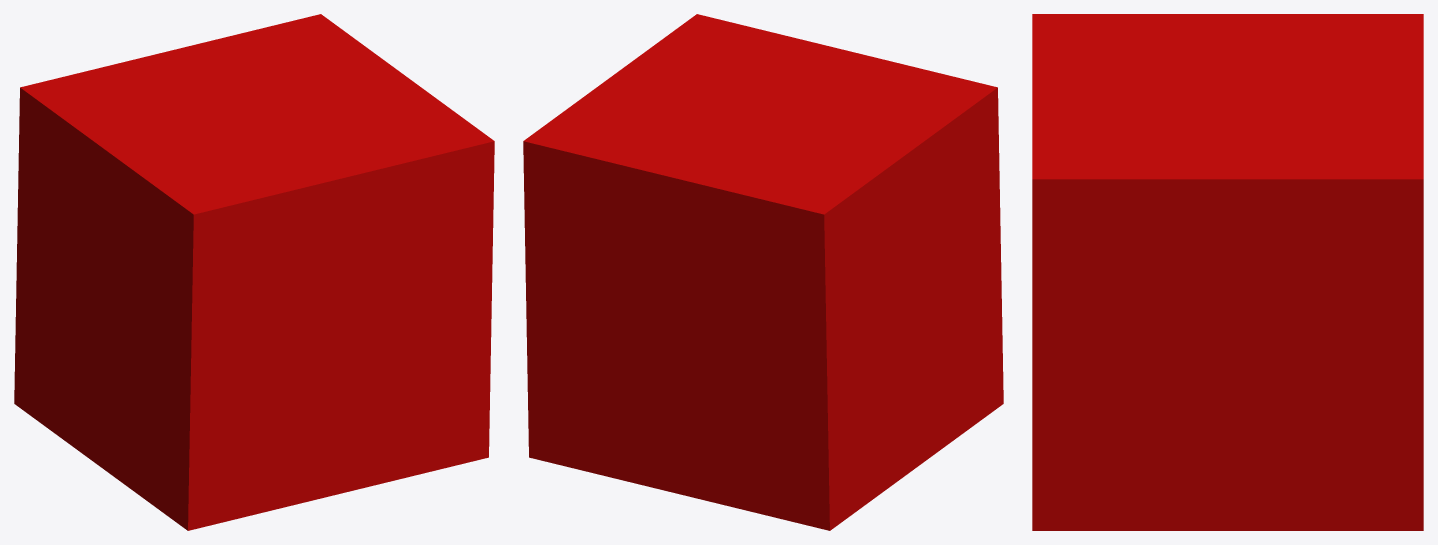
File: cuboSelect.fbx
The picture shows the model from 3 angles, left to right: view 1: azimuth 30°, elevation 25°; view 2: azimuth 150°, elevation 25°; view 3: azimuth 270°, elevation 25°; orthographic projection. The views are drawn at different scales.
Visible parts, largest first — view 1: Cube; view 2: Cube; view 3: Cube.
Boxes of the visible parts, x1,y1,x2,y2 form: Cube: (14, 14, 494, 530); Cube: (523, 14, 1003, 530); Cube: (1032, 14, 1423, 530).
Size of the model in its own units: 204 by 200 by 200.
